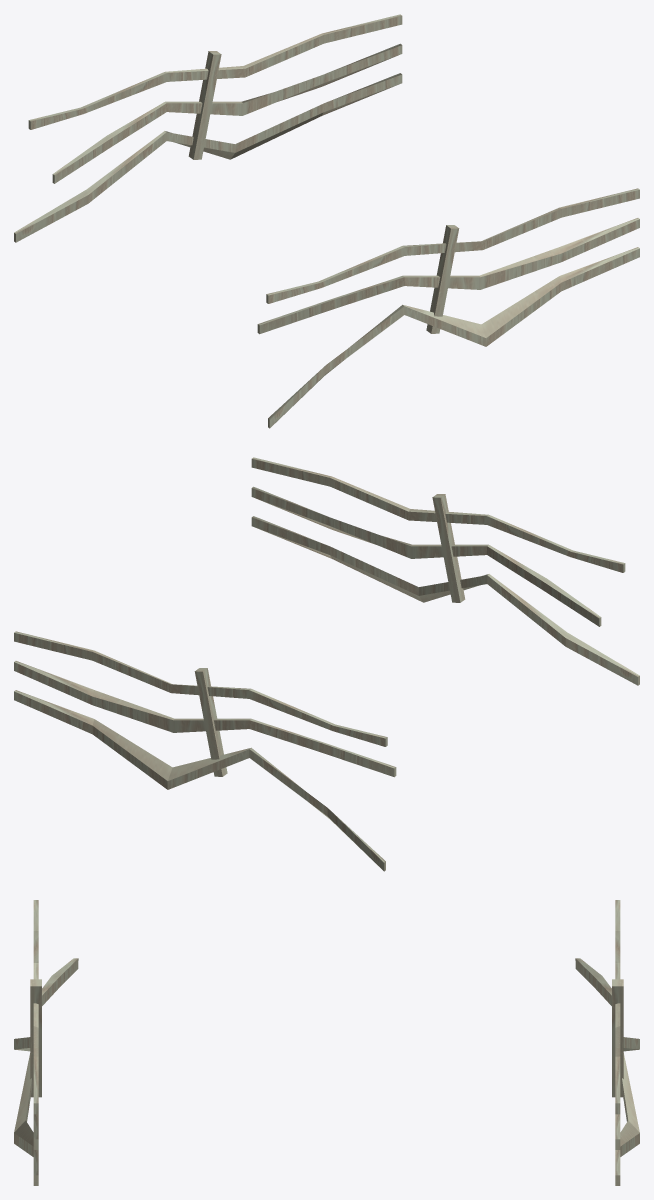
3 views of the same model, one above another, from view 1: azimuth 30°, elevation 25°; view 2: azimuth 150°, elevation 25°; view 3: azimuth 270°, elevation 25° (orthographic). The views are drawn at different scales.
Parts seen in each view (by area): view 1: brid_rln015_woodsemwhite_0; view 2: brid_rln015_woodsemwhite_0; view 3: brid_rln015_woodsemwhite_0.
Part boxes in pixels (x1,y1,x2,y2): brid_rln015_woodsemwhite_0: (14,14,639,428); brid_rln015_woodsemwhite_0: (14,457,639,871); brid_rln015_woodsemwhite_0: (14,900,639,1185).
Bounding box in the file's own units: 2.7 × 1.02 × 3.16.
1 material, 1 textured.
